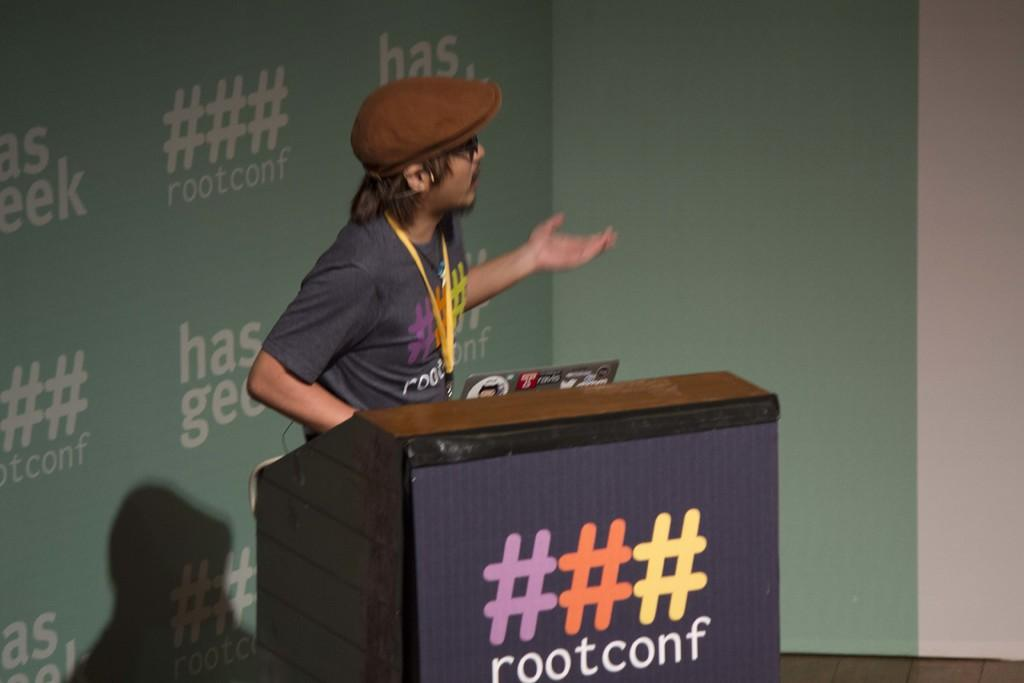Hat: (345, 79, 501, 182)
